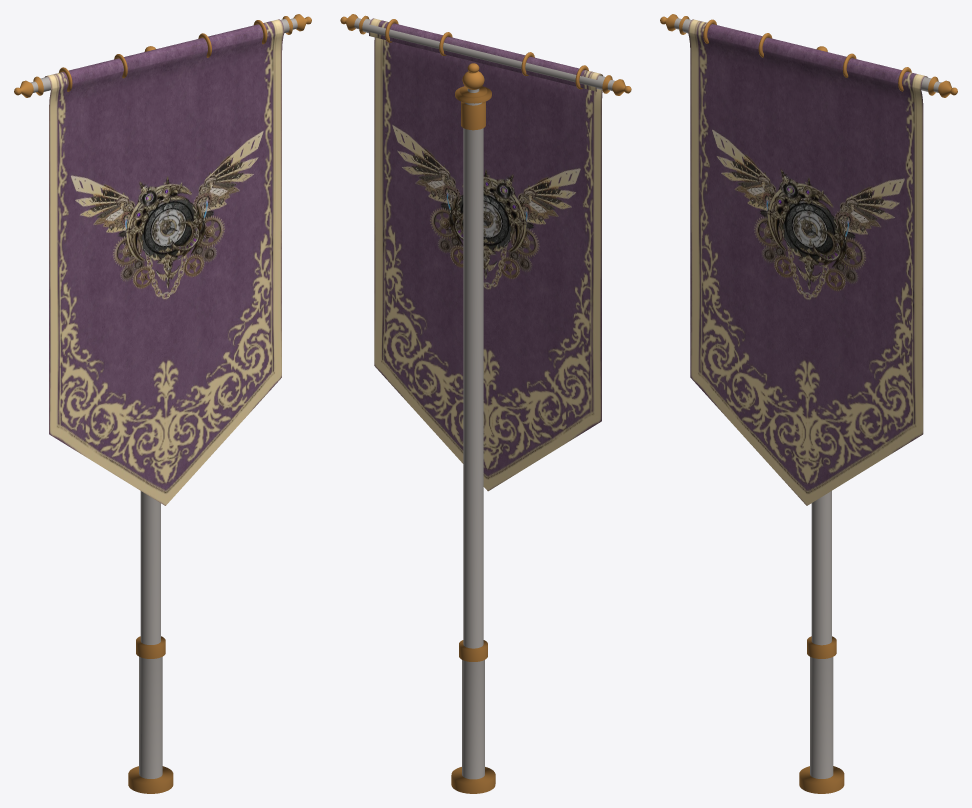
File: architecture_flag.glb
The picture shows the model from 3 angles, left to right: view 1: azimuth 30°, elevation 25°; view 2: azimuth 150°, elevation 25°; view 3: azimuth 330°, elevation 25°; orthographic projection. The views are drawn at different scales.
Visible parts, largest first — view 1: Plane.003, Cylinder.007, Cylinder.008; view 2: Plane.003, Cylinder.007, Cylinder.008; view 3: Plane.003, Cylinder.007, Cylinder.008.
Part boxes in pixels (x1,y1,x2,y2): Plane.003: [44, 19, 284, 505]; Cylinder.007: [128, 46, 173, 793]; Cylinder.008: [14, 14, 311, 97]; Plane.003: [369, 18, 602, 491]; Cylinder.007: [451, 63, 495, 793]; Cylinder.008: [340, 14, 631, 95]; Plane.003: [688, 19, 927, 505]; Cylinder.007: [799, 46, 844, 793]; Cylinder.008: [660, 14, 957, 97].
Bounding box in the file's own units: 7.34 × 17.71 × 1.31.
4 materials, 4 textured.
